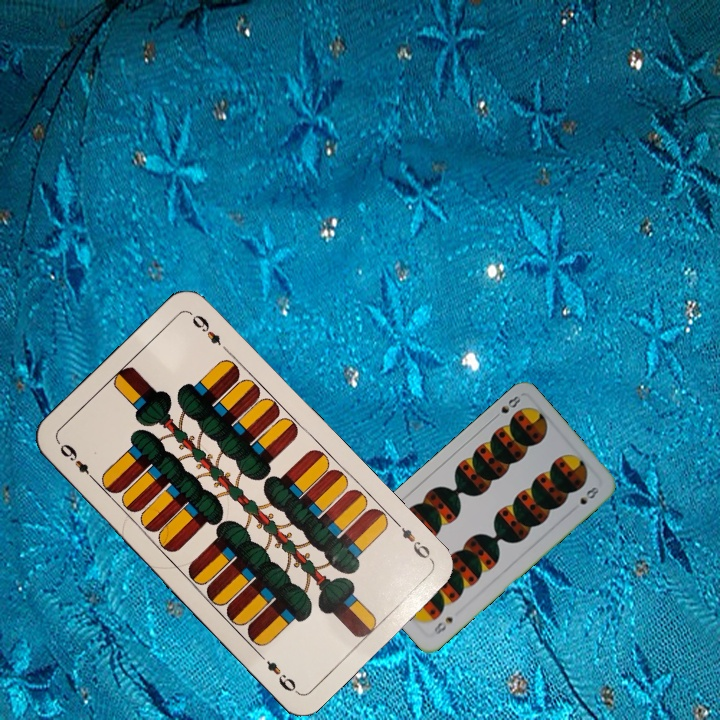E9: (391, 517, 436, 564), (55, 439, 100, 485)
S8: (489, 392, 523, 422), (429, 613, 456, 639)
